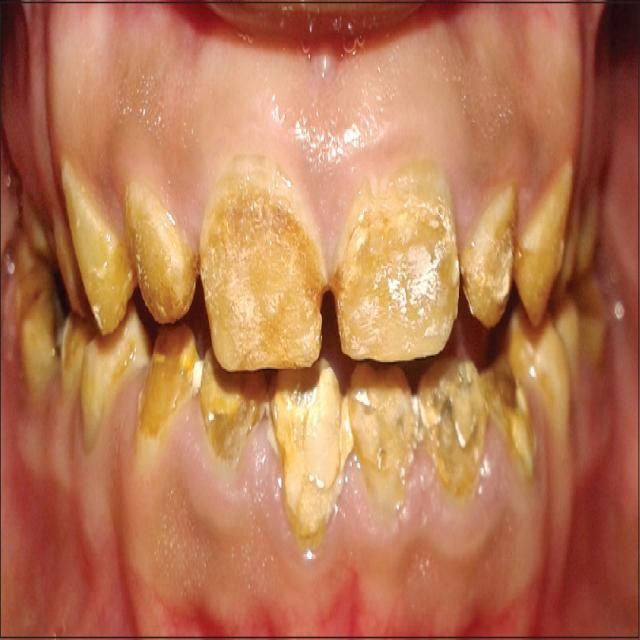LLCI_decay: (344, 368, 416, 510)
LLLI_decay: (416, 363, 490, 503)
LRCI_decay: (271, 364, 342, 544)
LRC_decay: (132, 325, 197, 438)
LRLI_decay: (190, 353, 266, 467)
ULCI_decay: (337, 176, 459, 363)
ULC_decay: (517, 158, 576, 327)
ULLI_decay: (464, 183, 514, 336)
URCI_decay: (199, 171, 324, 369)
URC_decay: (65, 164, 133, 337)
URLI_decay: (122, 175, 197, 325)
